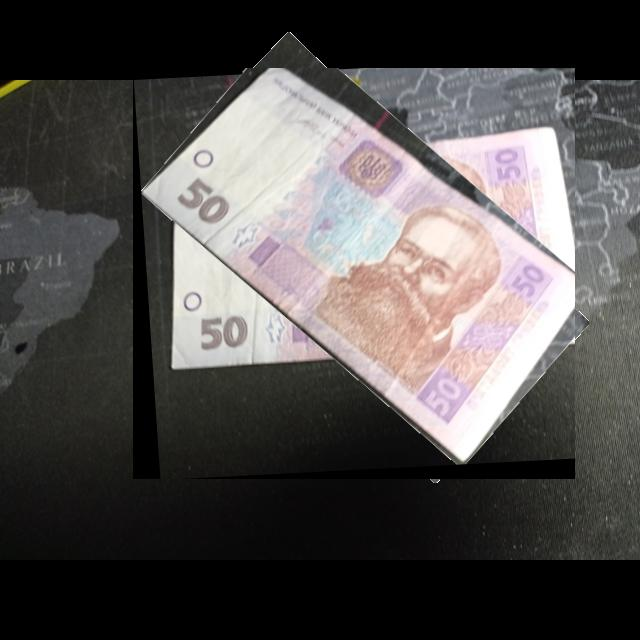50uah: (140, 68, 576, 468)
